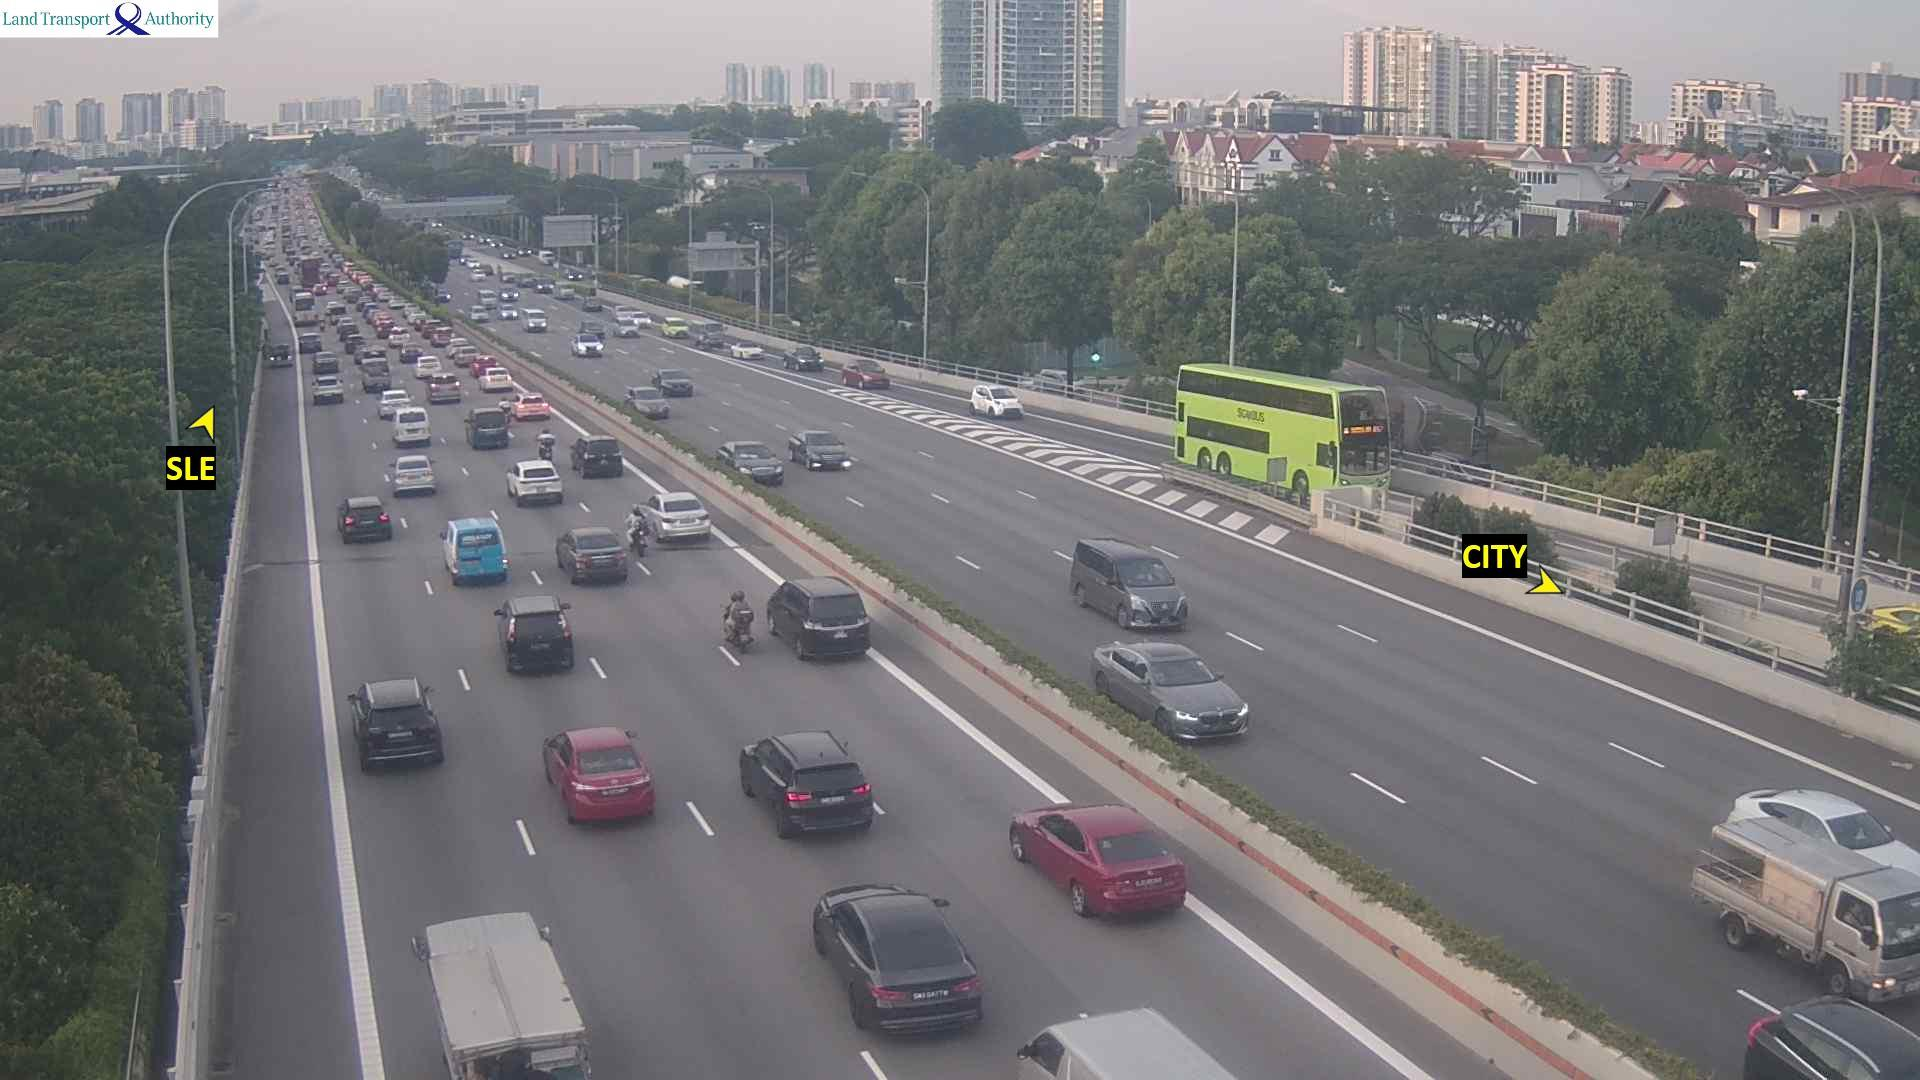incoming: (1822, 874, 1920, 1010), (1135, 654, 1257, 742), (1324, 381, 1396, 496), (1821, 804, 1920, 880), (1105, 551, 1196, 630), (731, 442, 786, 485), (799, 430, 853, 472), (982, 385, 1026, 422), (626, 388, 671, 421), (853, 359, 893, 390), (654, 371, 695, 398), (793, 345, 825, 372), (702, 322, 729, 352), (575, 334, 604, 359), (738, 342, 767, 361), (526, 311, 550, 332), (666, 319, 691, 339), (617, 318, 640, 338), (477, 291, 500, 310), (582, 319, 607, 335), (632, 311, 653, 330), (583, 295, 604, 313), (558, 282, 576, 301), (497, 305, 518, 320), (468, 306, 489, 322), (534, 277, 555, 293), (434, 287, 452, 305), (564, 265, 583, 281), (500, 287, 521, 301), (615, 305, 633, 319), (520, 272, 535, 287), (541, 251, 556, 265), (471, 269, 488, 282), (501, 272, 516, 284), (518, 245, 533, 257), (501, 248, 516, 258), (467, 257, 480, 268)
